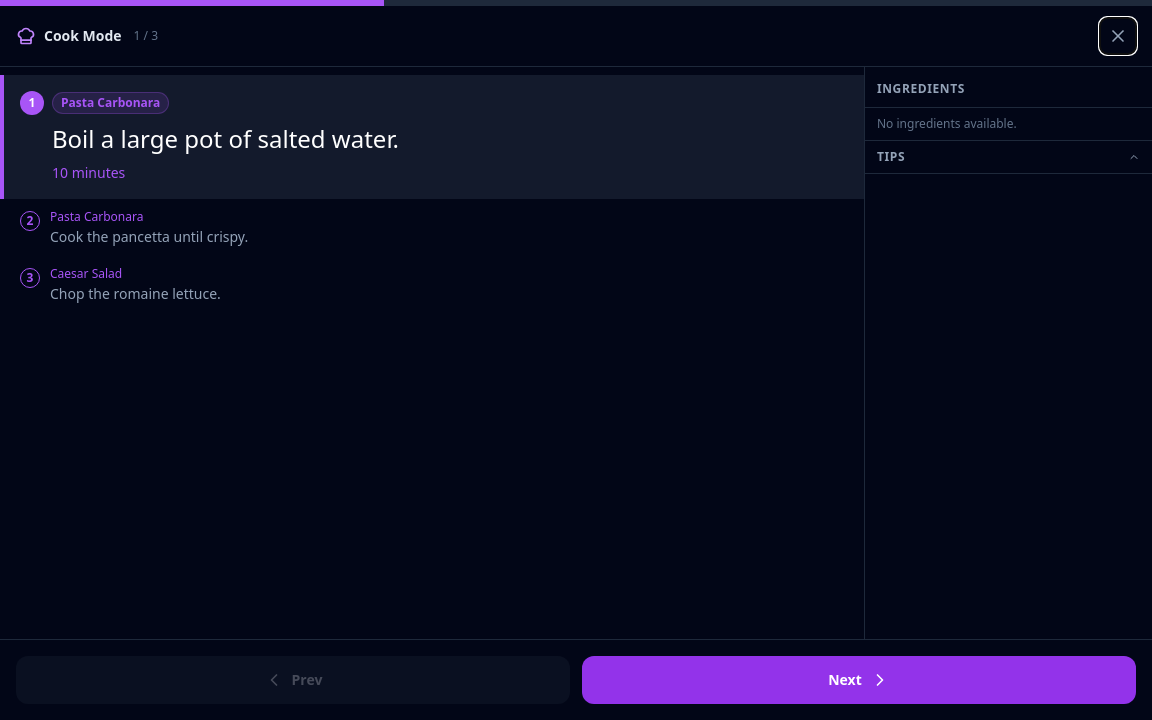
CookModeDialog › navigates to next step when Next is clicked
Click the button with aria-label "Next step". click: (859, 680)
box: top-left (582, 656), bottom-right (1136, 704)
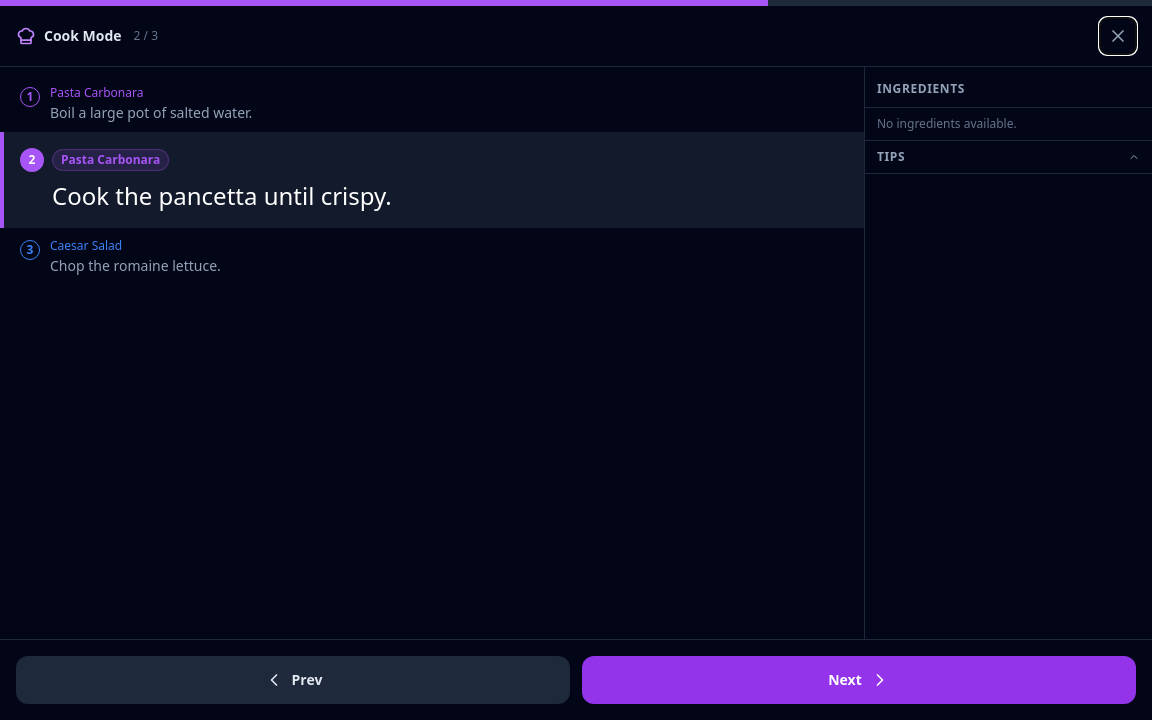
Result: the text "2 / 3" is shown at top-left (134, 28), bottom-right (158, 44)
